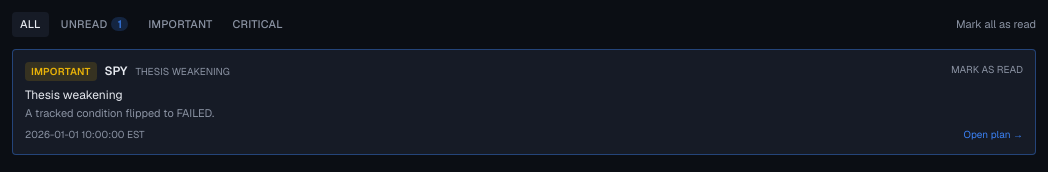
Test: AlertCenter › clicking 'Mark as read' acknowledges the alert and removes the unread indicator
Step 1. Click the button "Mark as read" → (987, 69), box [951,62,1023,76]
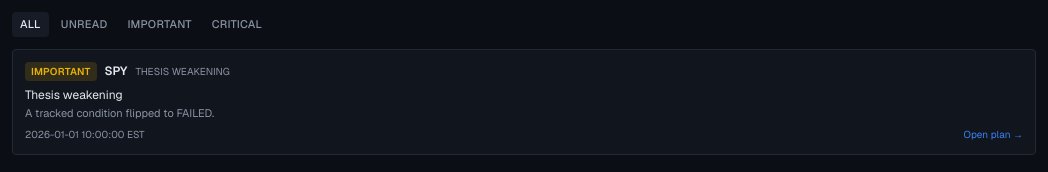
Expected: the button "Mark as read" is gone
